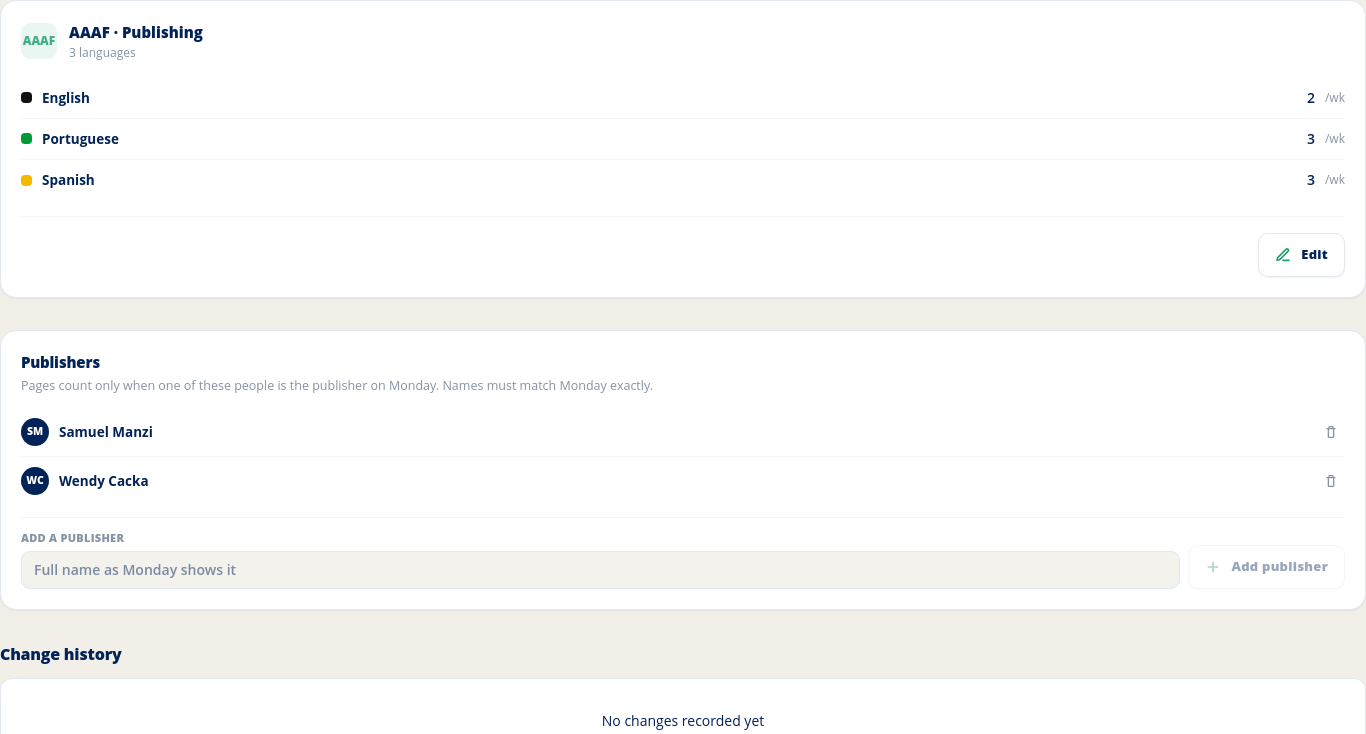
Test: TargetsEditor (audit, 10 October 2026) › says which rows saved and which did not when a save fails part way
Click the button "Edit" at (1302, 255), box top-left (1258, 233), bottom-right (1345, 277)
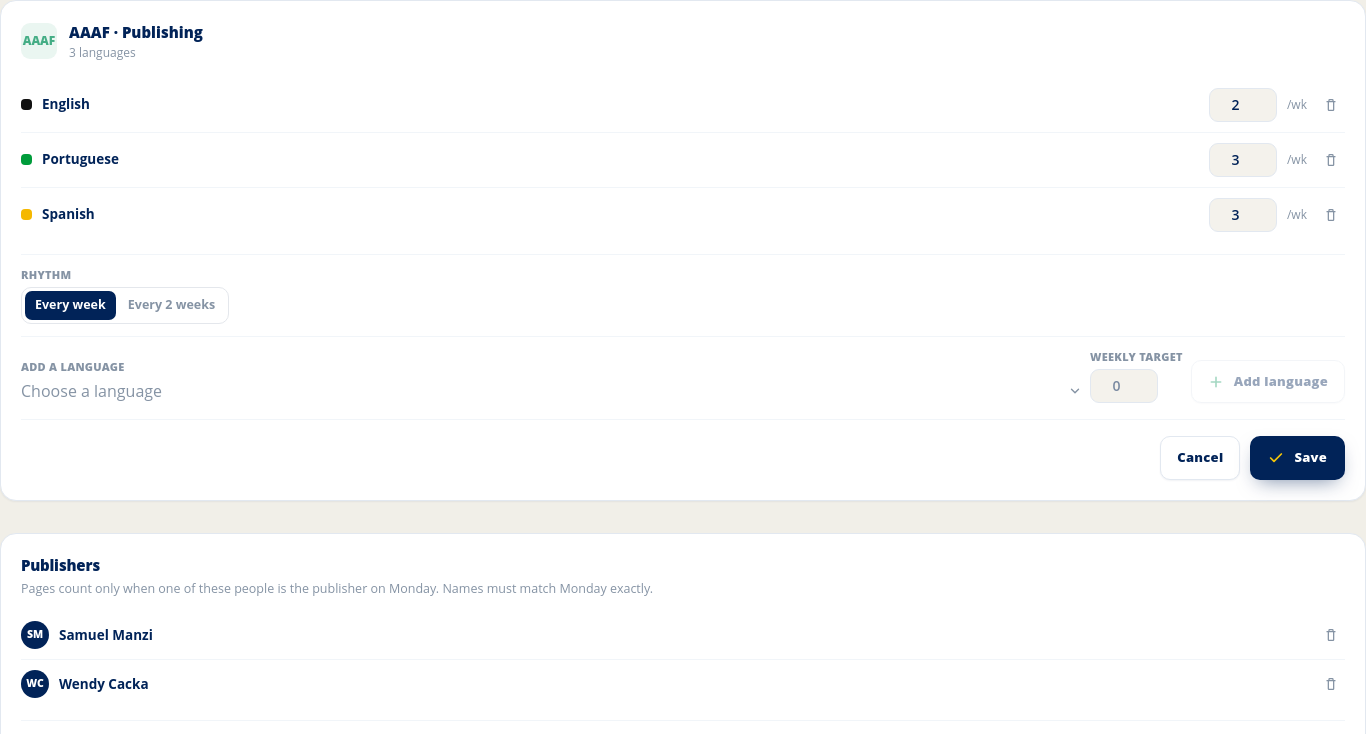
Replace the text in the number field named "English weekly target" with "4" at (1243, 104), box top-left (1209, 88), bottom-right (1277, 122)
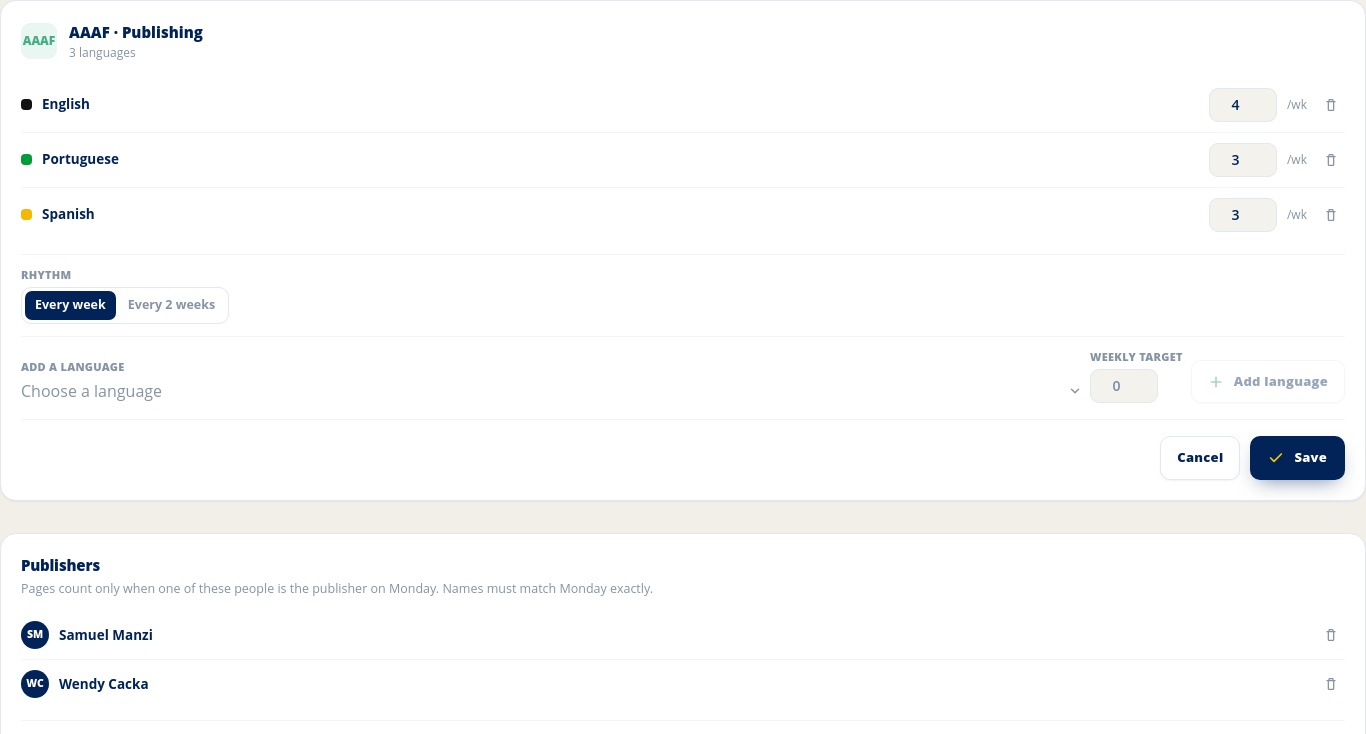
Replace the text in the number field named "Portuguese weekly target" with "5" at (1243, 160), box top-left (1209, 142), bottom-right (1277, 176)
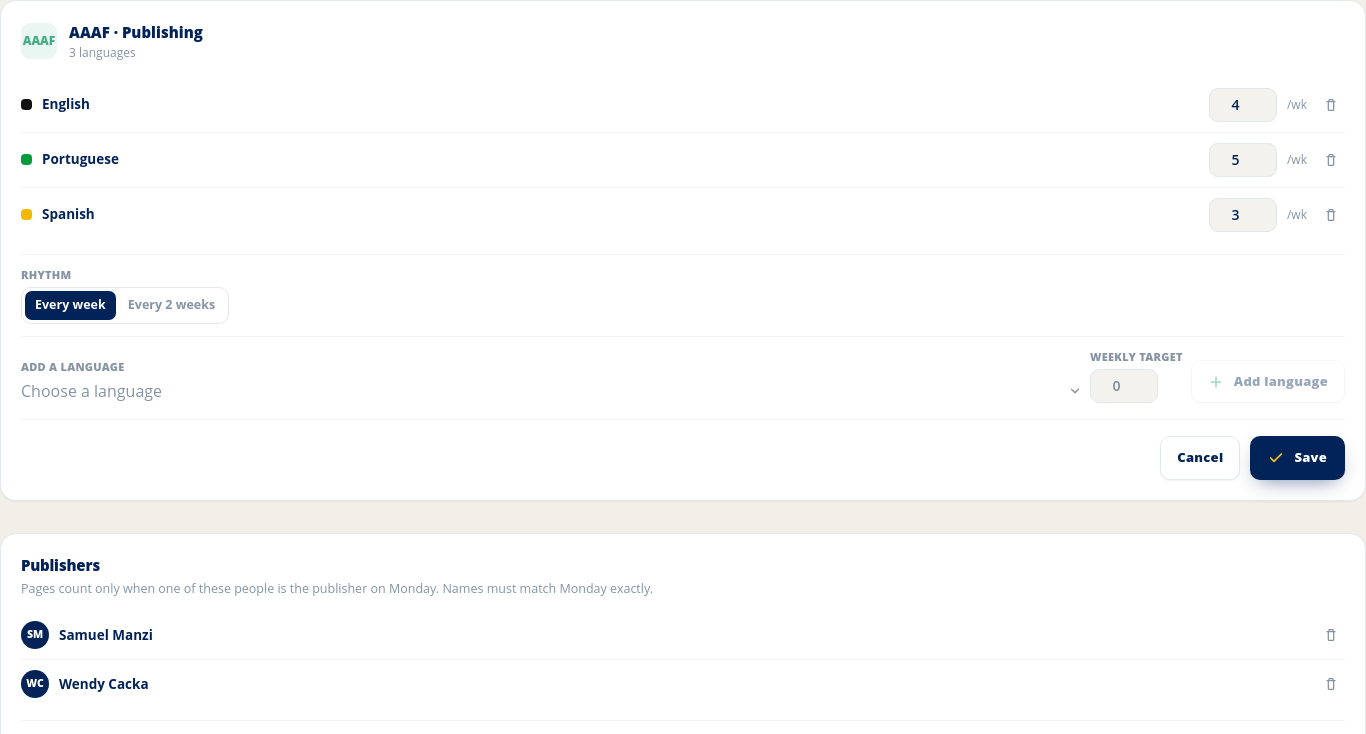
Click the button "Save" at (1298, 458), box top-left (1250, 436), bottom-right (1345, 480)
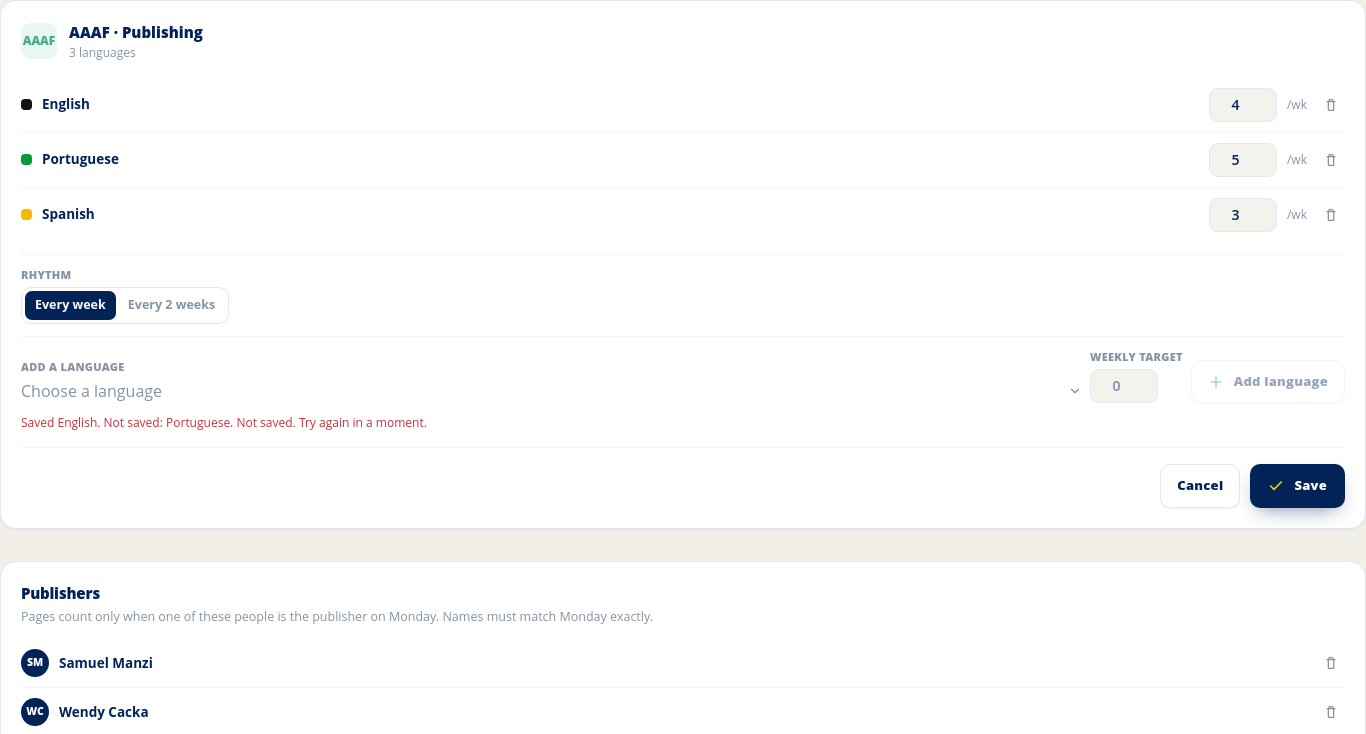
Check: the message reads "Saved English. Not saved: Portuguese. Not saved. Try again in a moment.", box top-left (21, 414), bottom-right (427, 431)
